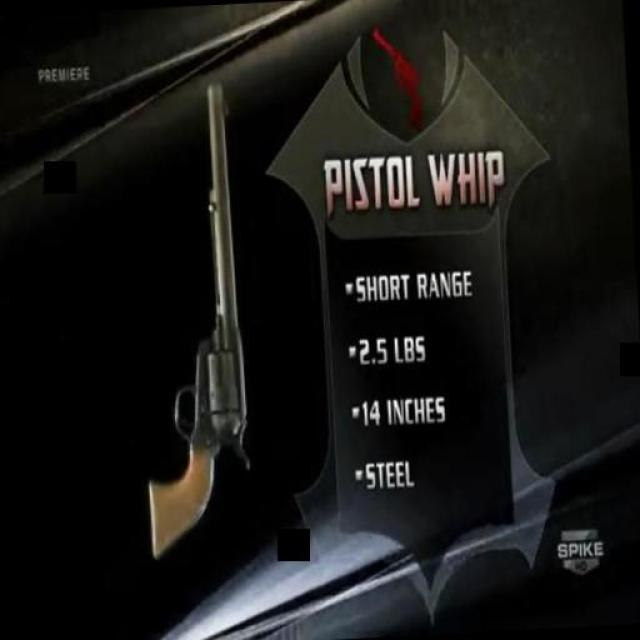gun: (116, 65, 288, 601)
